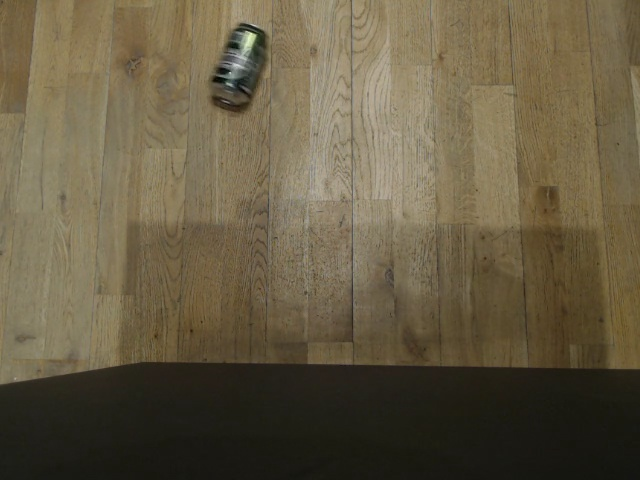beer: (209, 20, 271, 110)
